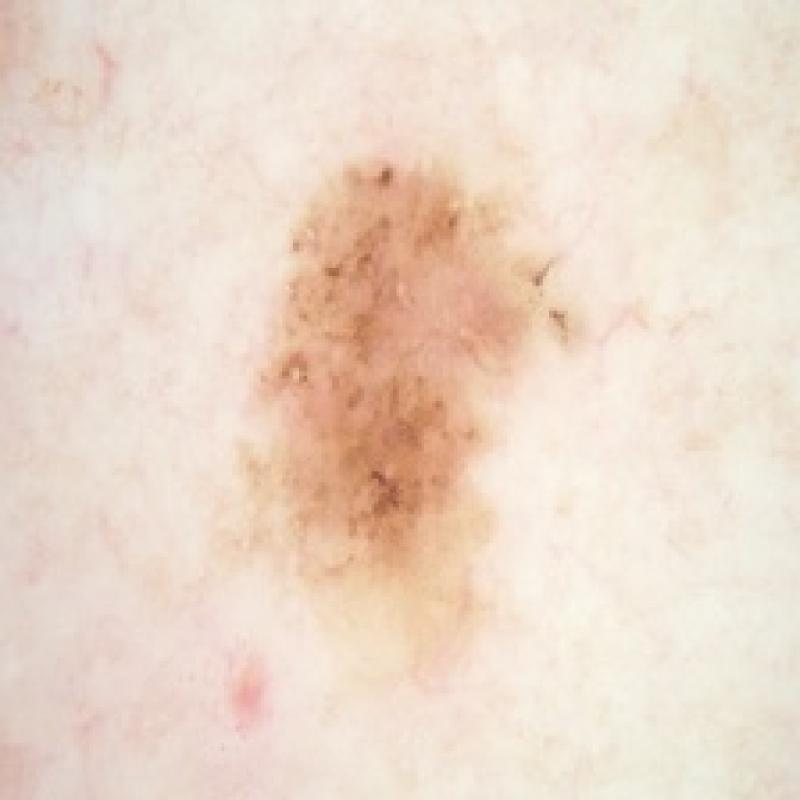malignant: (192, 146, 595, 706)
